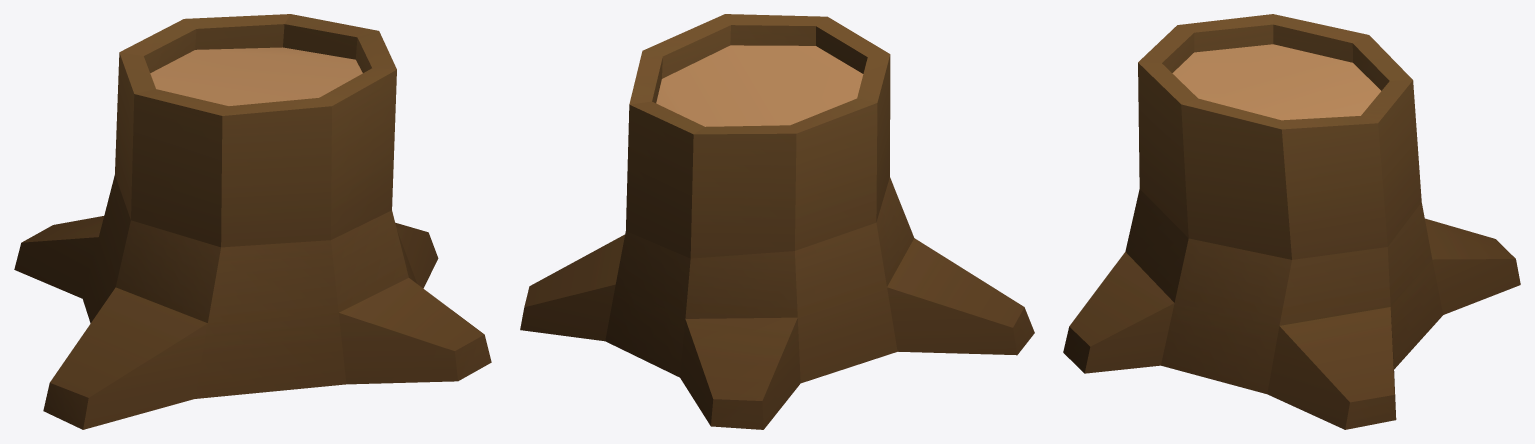
The model's file is Stump_01.fbx.
3 renders of one model, left to right at view 1: azimuth 30°, elevation 25°; view 2: azimuth 150°, elevation 25°; view 3: azimuth 270°, elevation 25°, orthographic. The views are drawn at different scales.
Parts seen in each view (by area): view 1: Stump_01; view 2: Stump_01; view 3: Stump_01.
Boxes of the visible parts, <box> form: Stump_01: <box>14,14,491,429</box>; Stump_01: <box>520,14,1034,429</box>; Stump_01: <box>1063,14,1520,429</box>.
Bounding box in the file's own units: 79.77 × 46.98 × 72.64.
